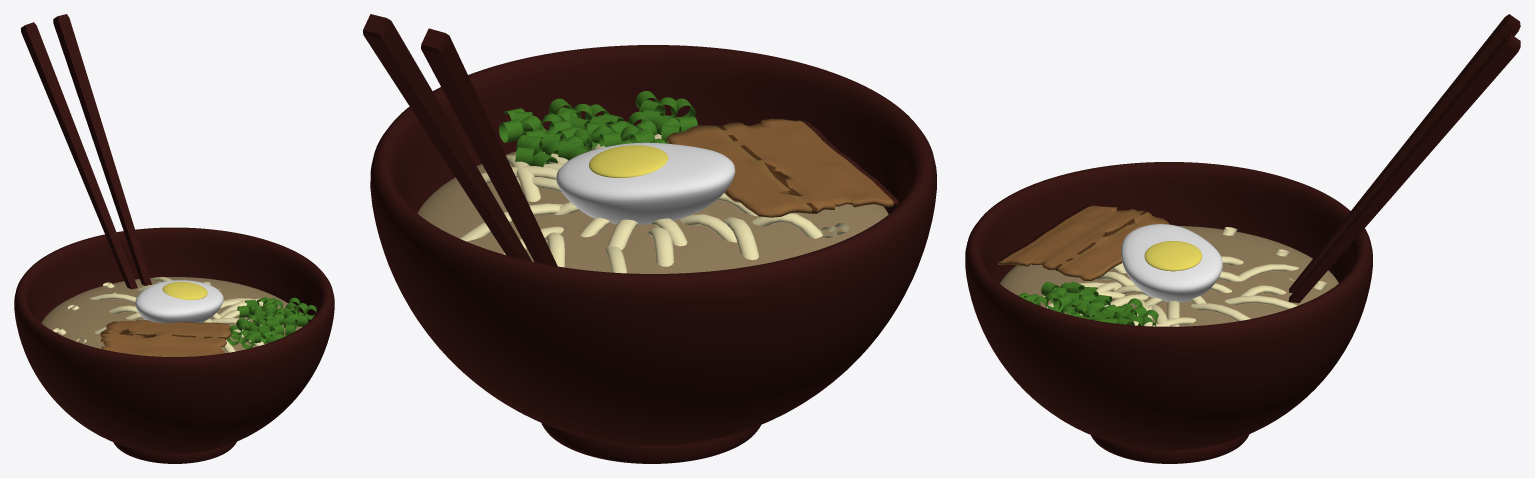
File: JapaneseRamen.glb
3 views of the same model, side by side, from view 1: azimuth 30°, elevation 25°; view 2: azimuth 150°, elevation 25°; view 3: azimuth 270°, elevation 25° (orthographic). The views are drawn at different scales.
Visible parts, largest first — view 1: Gravy; view 2: Gravy; view 3: Gravy.
Part boxes in pixels (<box>): Gravy: <box>14,14,334,463</box>; Gravy: <box>363,14,936,463</box>; Gravy: <box>965,14,1520,463</box>.
Size of the model in its own units: 1.96 by 2.17 by 2.67.
